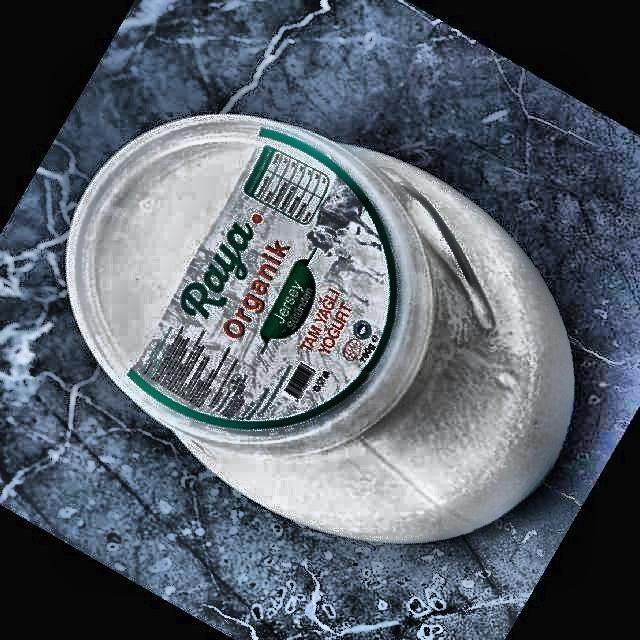plastic: (66, 115, 574, 542)
